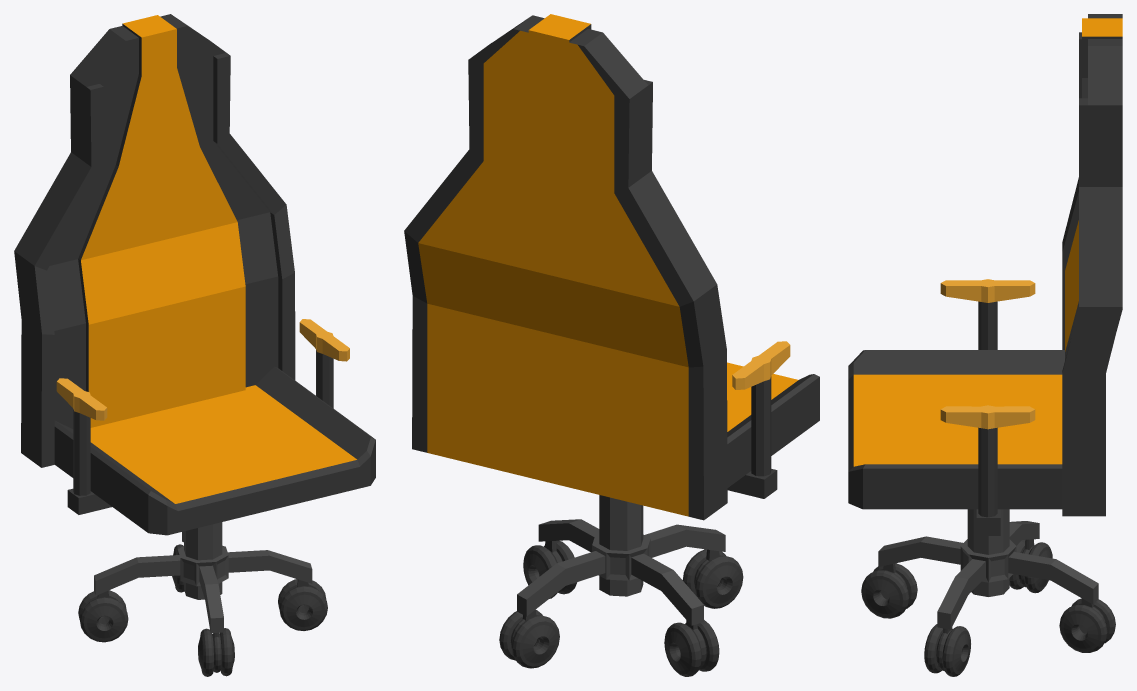
The model's file is Chair 1.fbx.
3 renders of one model, left to right at view 1: azimuth 30°, elevation 25°; view 2: azimuth 150°, elevation 25°; view 3: azimuth 270°, elevation 25°, orthographic. The views are drawn at different scales.
Visible parts, largest first — view 1: Chair; view 2: Chair; view 3: Chair.
Part boxes in pixels (<box>): Chair: <box>14,14,375,676</box>; Chair: <box>404,14,819,676</box>; Chair: <box>848,14,1122,676</box>.
Bounding box in the file's own units: 64 × 133 × 54.99.
